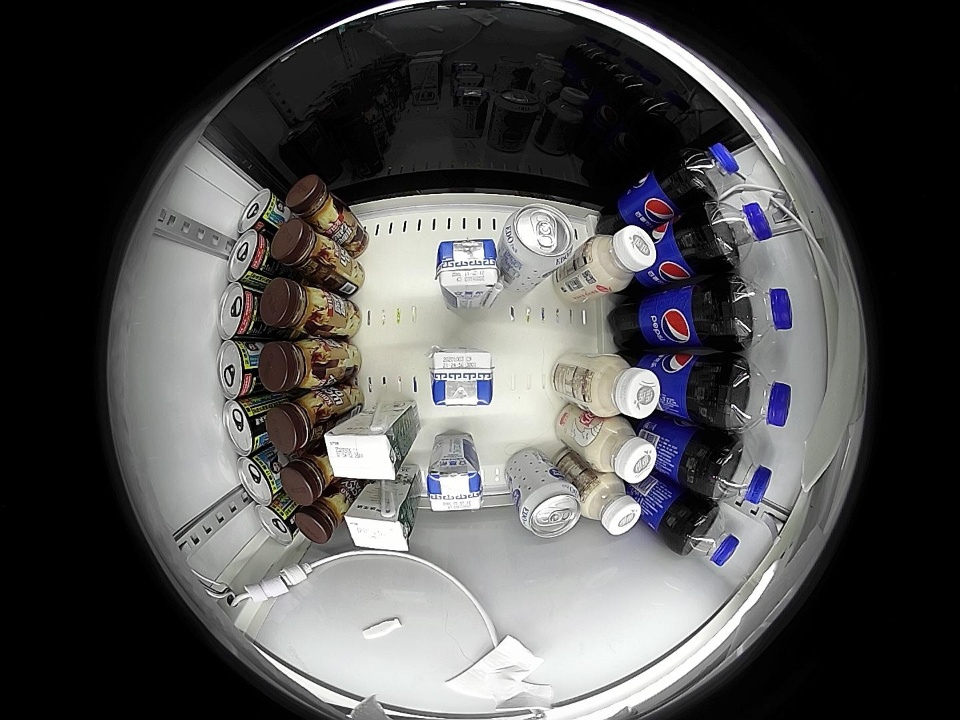anmuxi: (429, 347, 494, 408), (436, 240, 500, 298), (426, 457, 483, 513)
baishikele-2: (720, 359, 793, 434), (703, 197, 773, 268), (725, 276, 793, 349), (706, 441, 773, 509), (676, 506, 741, 568), (676, 142, 741, 201)
jindian: (325, 420, 402, 482), (344, 499, 414, 553)
lujikafei: (266, 390, 332, 455), (261, 277, 328, 336), (261, 337, 330, 392), (273, 218, 333, 277), (285, 175, 345, 232), (280, 445, 336, 505), (295, 492, 348, 544)
rusuanjunqishui: (502, 205, 574, 272), (518, 481, 582, 539)
weiweidounai: (585, 224, 657, 292), (588, 354, 660, 419), (588, 417, 657, 484), (581, 475, 641, 535)
yezhi: (217, 281, 263, 340), (217, 339, 262, 399), (223, 397, 268, 455), (227, 230, 273, 285), (237, 452, 281, 505), (238, 189, 284, 235), (254, 500, 301, 545)
